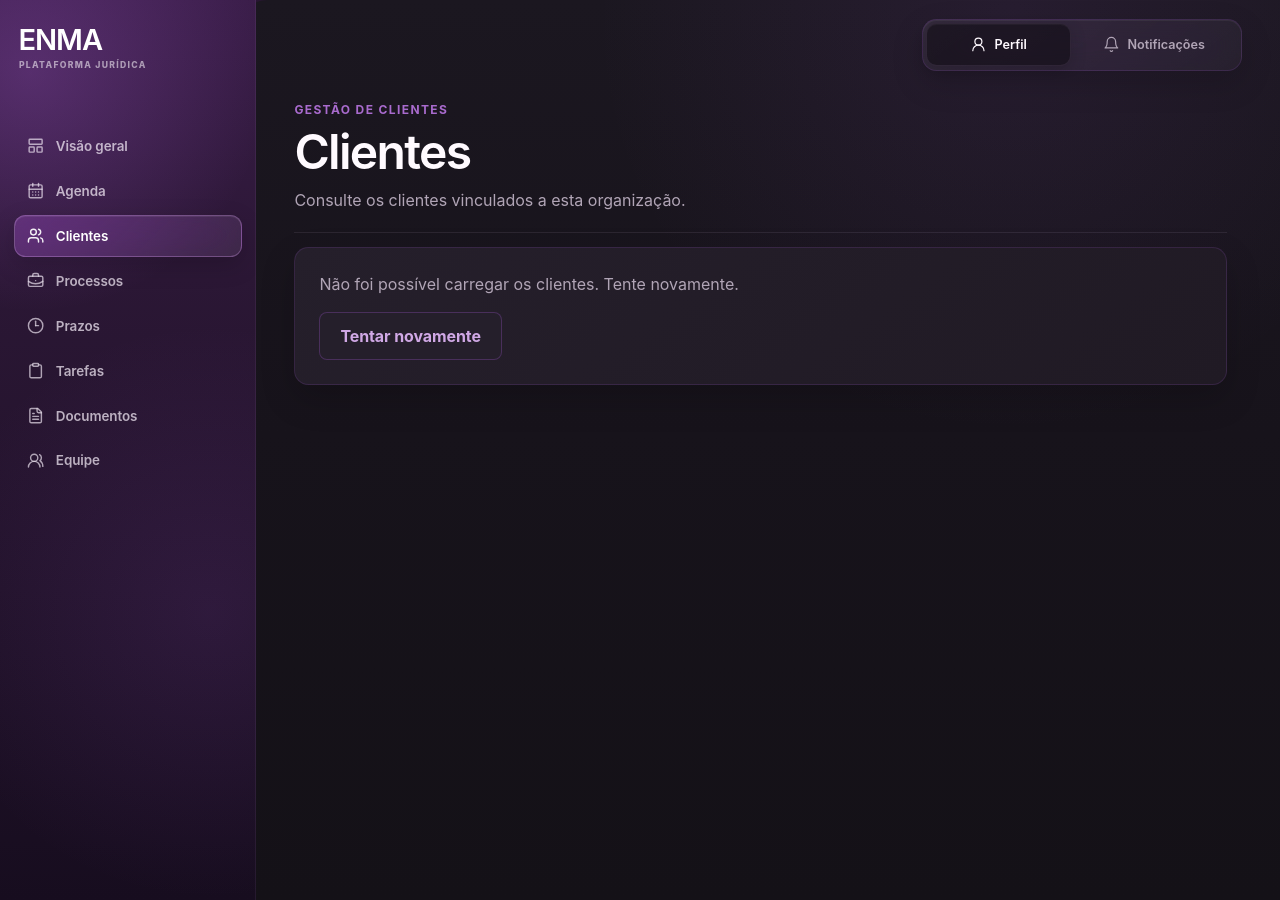
Test case: Clients D1 flow › ClientList_NetworkFailure_RetriesDeliberatelyAndRecovers
The image size is (1280, 900).
Expected: the message does not show "private network detail", [294,247,1227,385]
Click the button "Tentar novamente": coordinates (411, 336) [319,312,502,360]
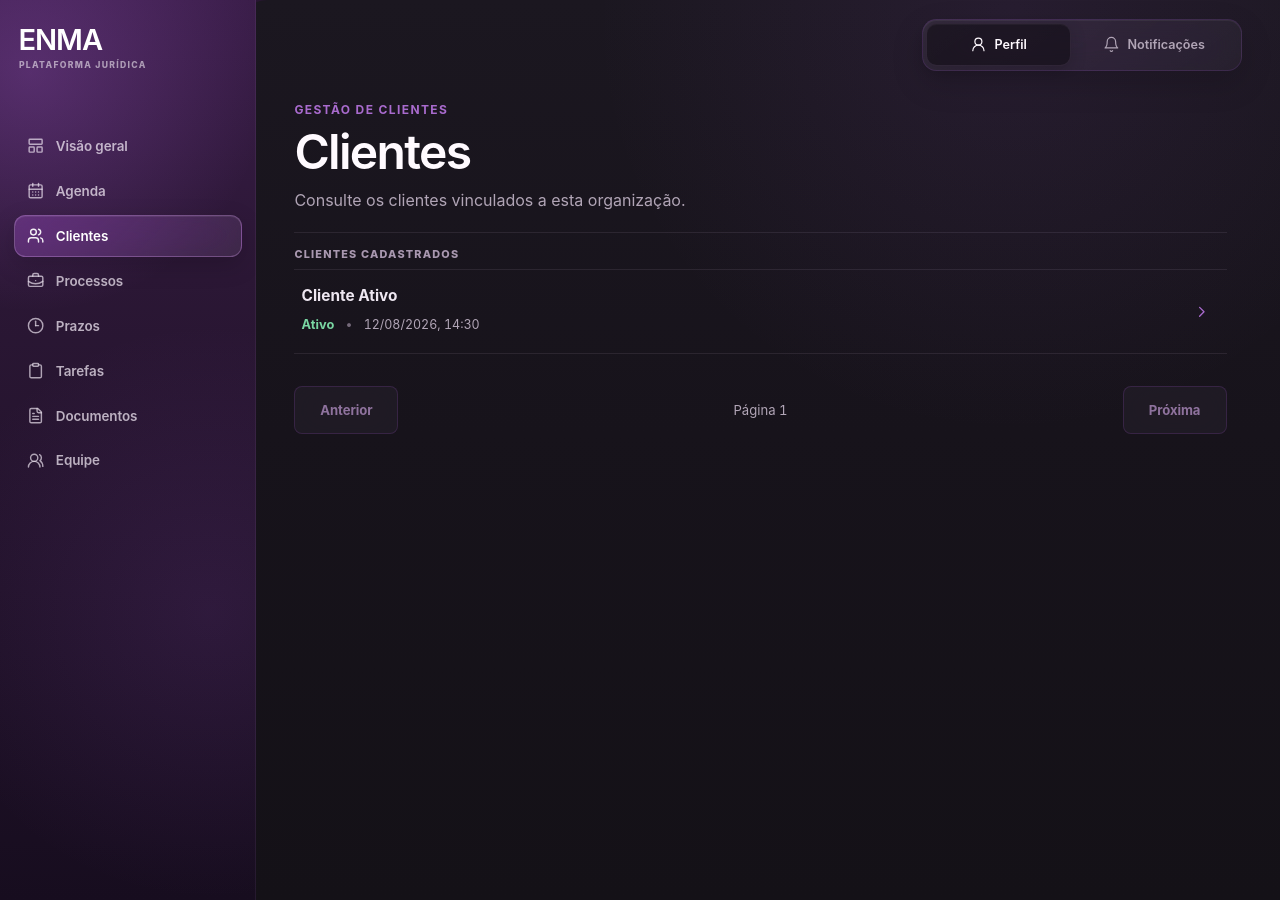
Now the text "Cliente Ativo" is shown, box [302,286,398,305]
